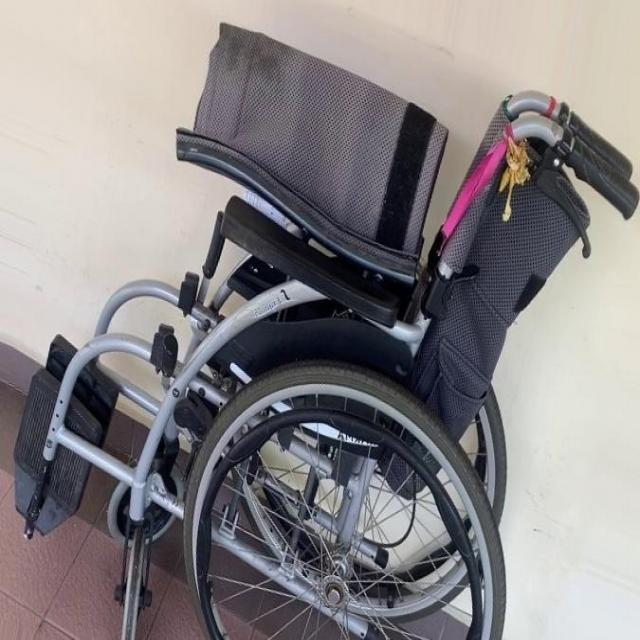wheelchair: (14, 3, 640, 640)
